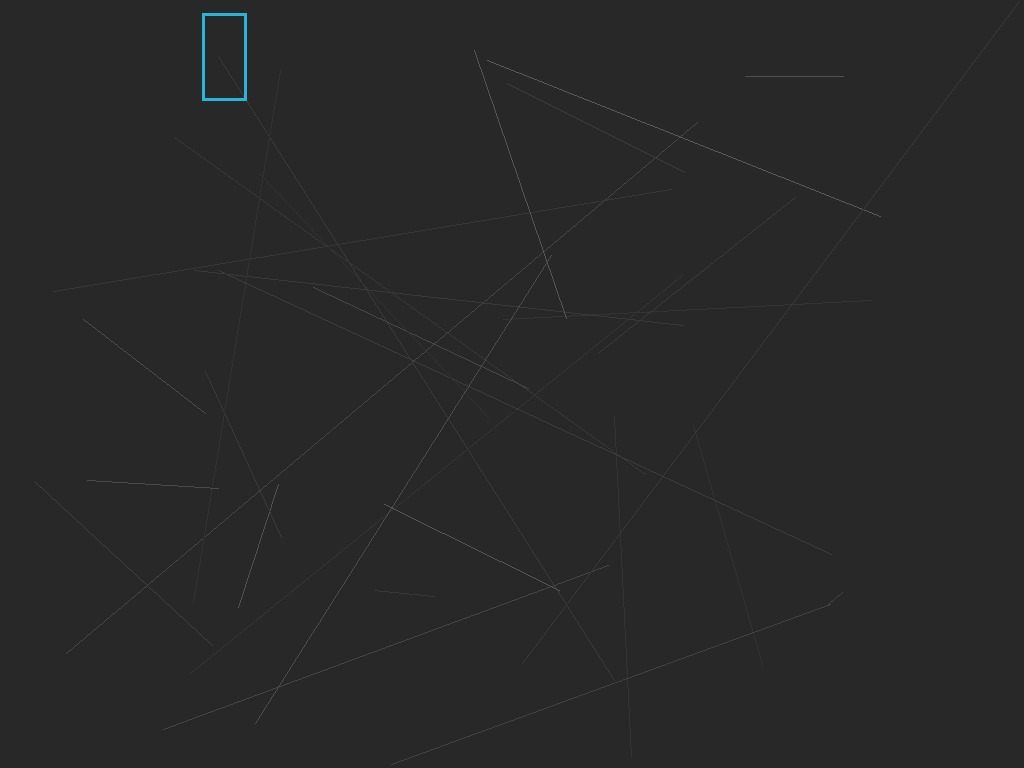D10: (202, 13, 246, 100)
